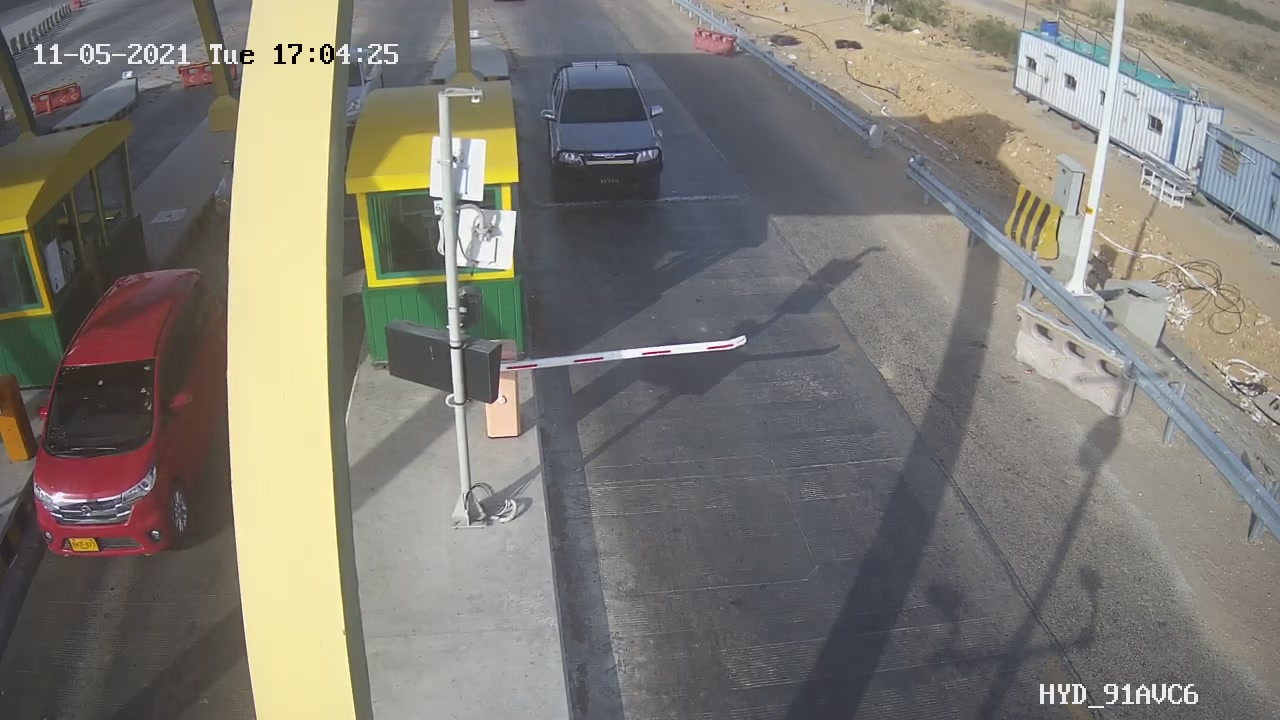F1: (522, 43, 694, 220)
